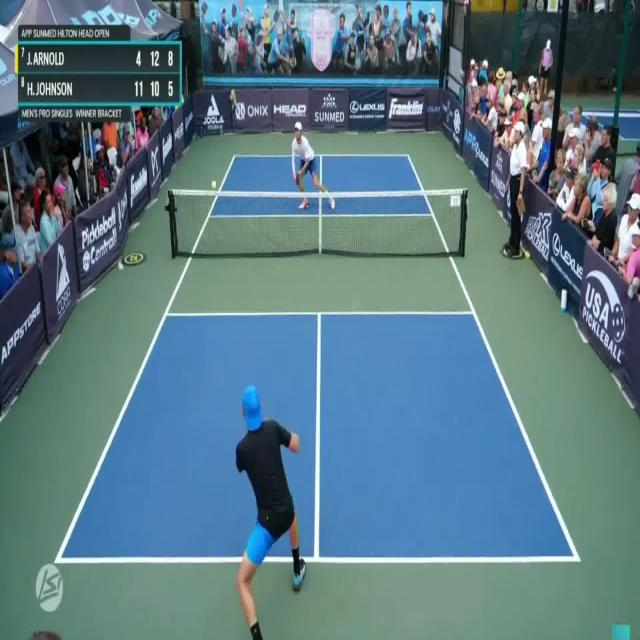Court: (55, 154, 583, 563)
ball: (211, 180, 216, 188)
